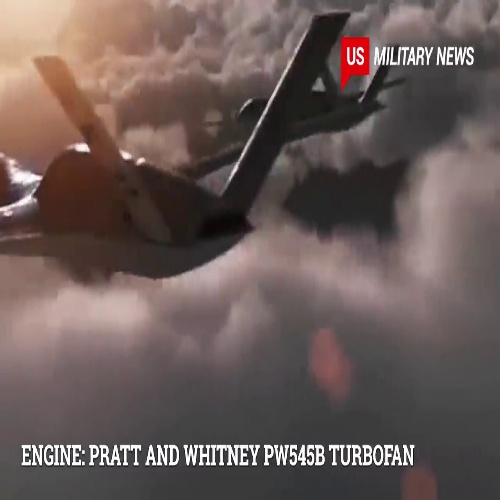uav573: (1, 13, 286, 280)
